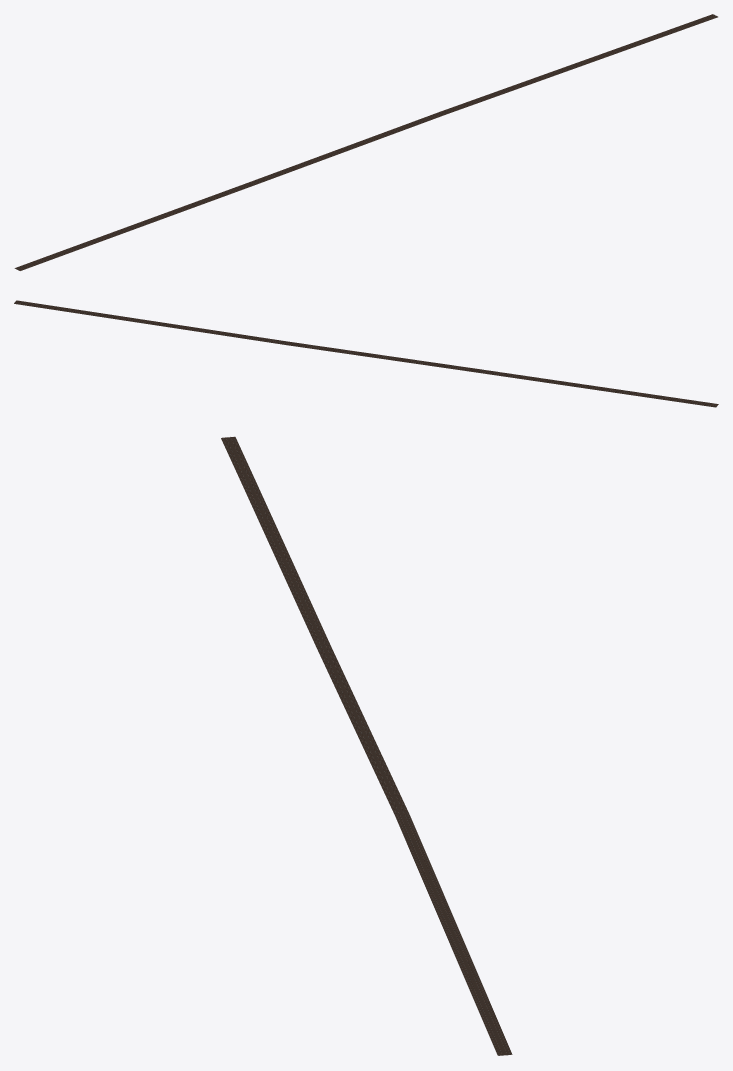
Rendered from kobe_0020.glb.
3 views of the same model, one above another, from view 1: azimuth 30°, elevation 25°; view 2: azimuth 150°, elevation 25°; view 3: azimuth 270°, elevation 25° (orthographic). The views are drawn at different scales.
Visible parts, largest first — view 1: ballast_top, oxidised_rail_profiles; view 2: ballast_top, oxidised_rail_profiles, ballast_left; view 3: ballast_top, oxidised_rail_profiles.
Boxes of the visible parts, box(x1,y1,x2,y2) form: ballast_top: box(14, 14, 717, 270); oxidised_rail_profiles: box(15, 14, 717, 270); ballast_top: box(14, 300, 718, 406); oxidised_rail_profiles: box(15, 300, 717, 406); ballast_left: box(14, 303, 716, 407); ballast_top: box(221, 436, 511, 1055); oxidised_rail_profiles: box(223, 437, 510, 1054).
Bounding box in the file's own units: 743 × 0.819 × 149.
Materials: 4 (3 with a texture image).
